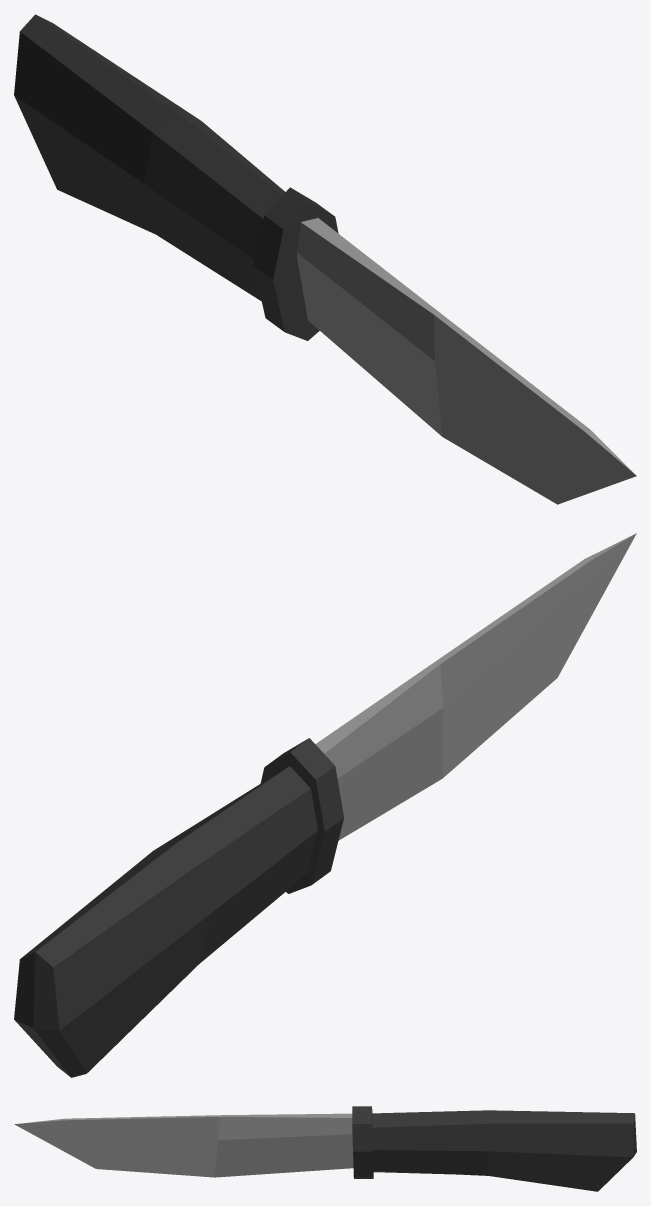
Rendered from knife_3.fbx.
3 renders of one model, top to bottom at view 1: azimuth 30°, elevation 25°; view 2: azimuth 150°, elevation 25°; view 3: azimuth 270°, elevation 25°, orthographic. The views are drawn at different scales.
Visible parts, largest first — view 1: knife_3; view 2: knife_3; view 3: knife_3.
Part boxes in pixels (bbox=[...]): knife_3: bbox=[14, 14, 636, 504]; knife_3: bbox=[14, 533, 636, 1077]; knife_3: bbox=[14, 1106, 636, 1191].
Size of the model in its own units: 3.73 by 8.31 by 54.85.
Materials: 1 (1 with a texture image).
